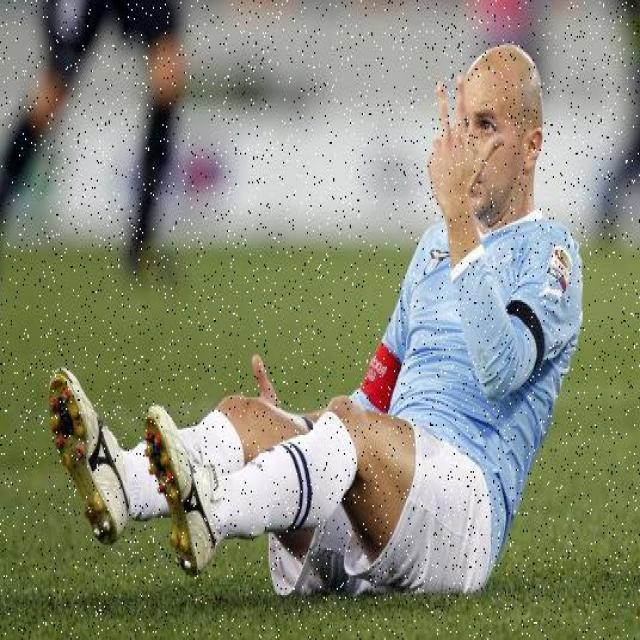fall: (89, 50, 564, 582)
